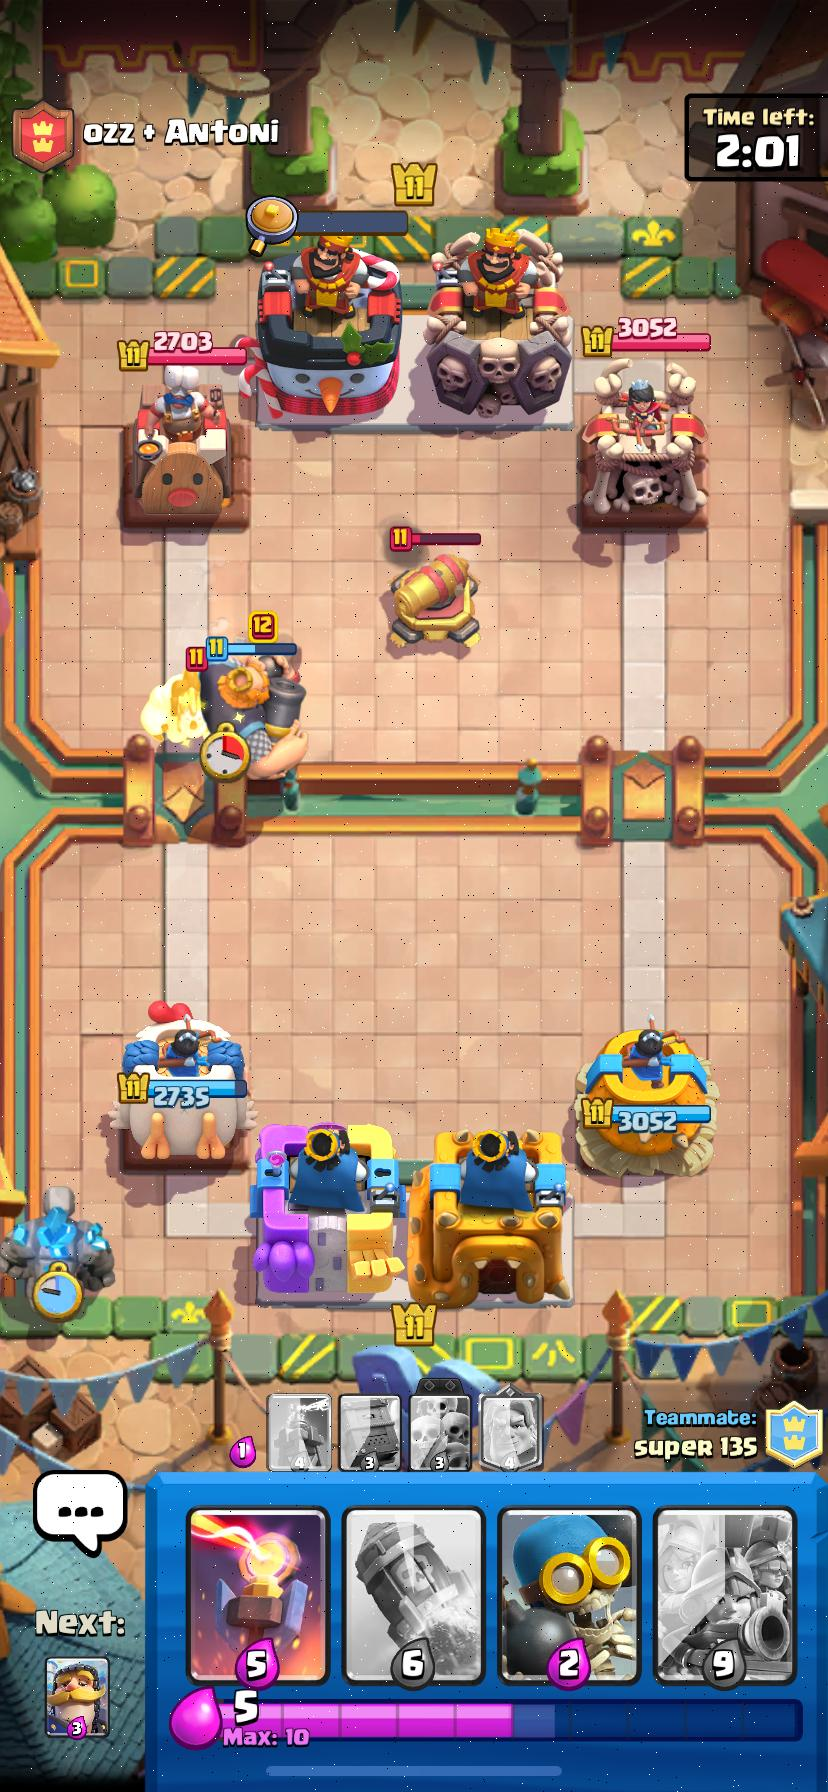EIceGolem: (145, 672, 206, 742)
EKingTower: (425, 226, 570, 417), (253, 234, 401, 418)
Ecan: (391, 554, 478, 645)
EnemyPanTower: (124, 384, 247, 526)
EnemyPrincessTower: (580, 365, 706, 521)
ORoyalG: (201, 658, 309, 776)
OwnKingTower: (407, 1129, 571, 1306), (253, 1123, 401, 1302)
OwnPrincessTower: (576, 1017, 716, 1173), (116, 1017, 253, 1159)
